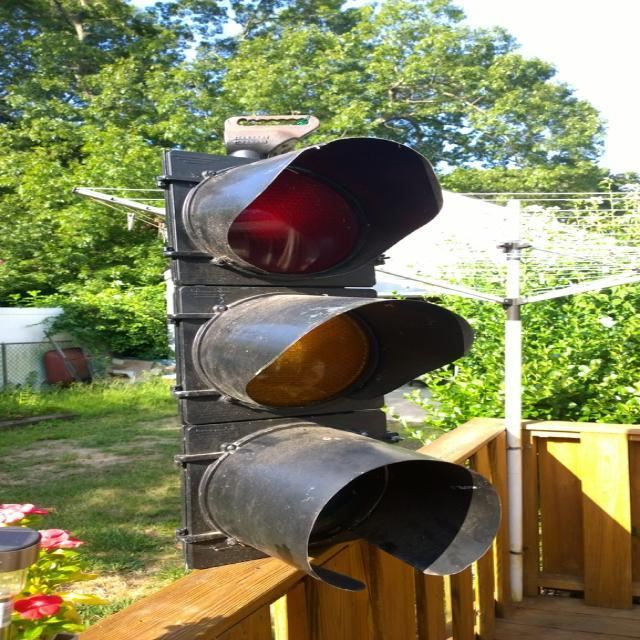off traffic light: (165, 134, 505, 594)
